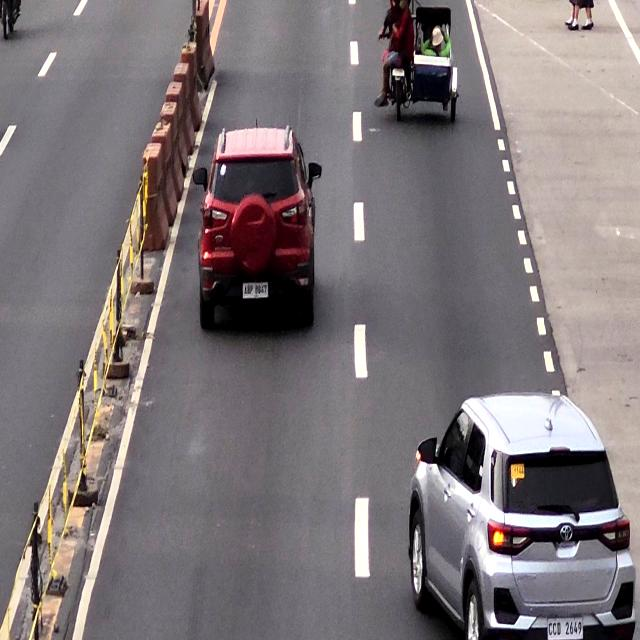Car: (409, 394, 636, 640), (200, 124, 316, 328)
License-Plate: (547, 615, 584, 640), (242, 280, 268, 302)
Tricycle: (385, 0, 460, 113)
